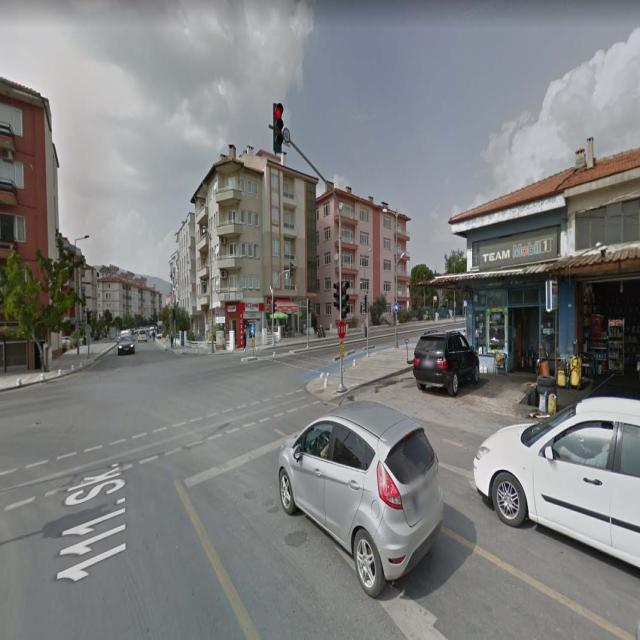dur: (337, 319, 346, 340)
kirmizi: (274, 103, 282, 153)
